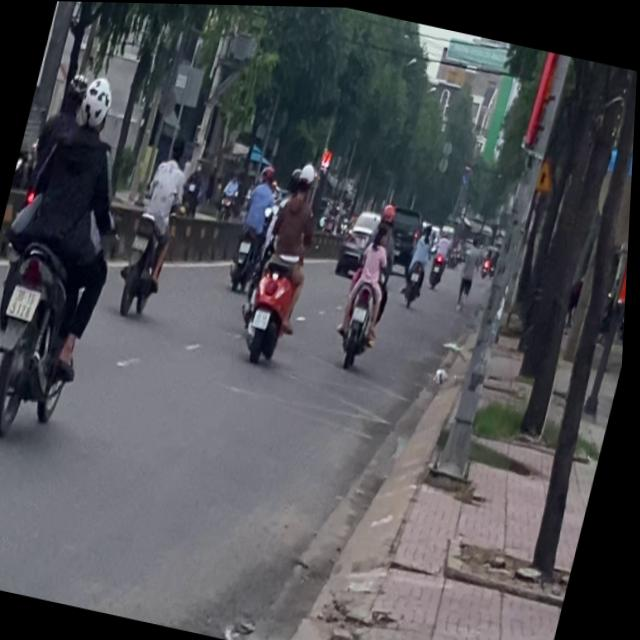helmet: (74, 70, 118, 134), (59, 68, 91, 113), (294, 157, 322, 197)
licenseplate: (0, 58, 155, 451), (232, 152, 336, 370), (112, 126, 199, 320)
motorcyclist: (167, 131, 188, 161)
nohelmet: (8, 282, 43, 319), (255, 306, 273, 326), (133, 232, 150, 248)
